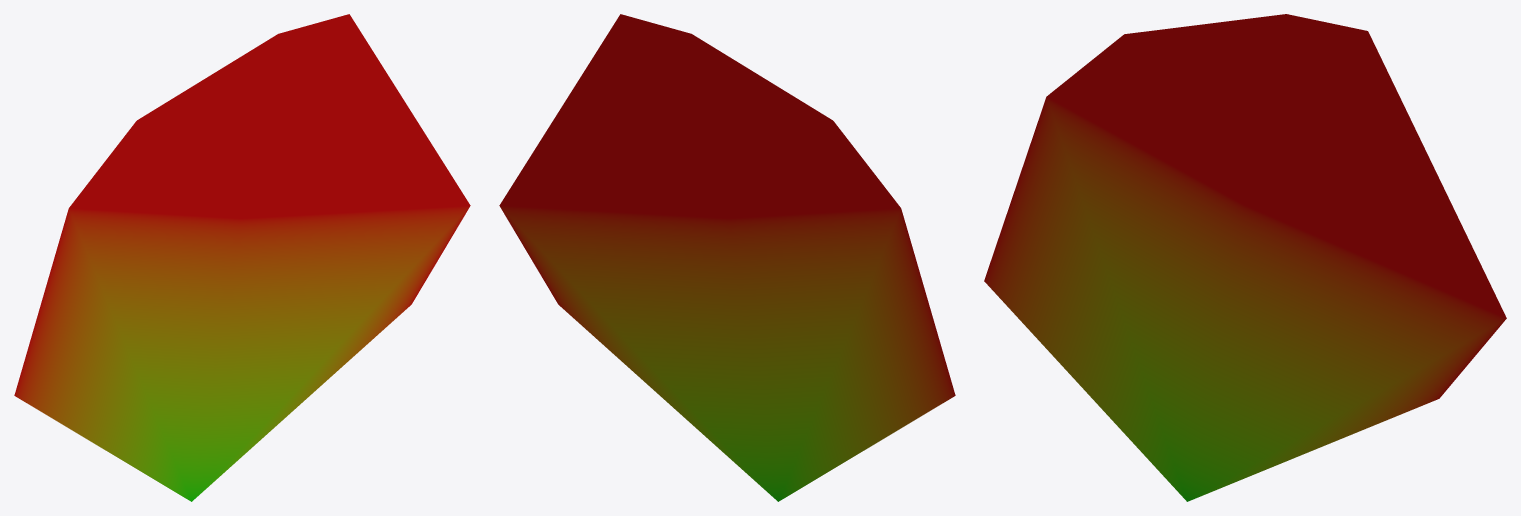
File: Rose Hip_LOD5_Var5.fbx
3 renders of one model, left to right at view 1: azimuth 30°, elevation 25°; view 2: azimuth 150°, elevation 25°; view 3: azimuth 330°, elevation 25°, orthographic. The views are drawn at different scales.
Visible parts, largest first — view 1: _qr85_Var5_LOD5; view 2: _qr85_Var5_LOD5; view 3: _qr85_Var5_LOD5.
Part boxes in pixels (x1,y1,x2,y2): _qr85_Var5_LOD5: [14, 14, 470, 501]; _qr85_Var5_LOD5: [499, 14, 955, 501]; _qr85_Var5_LOD5: [984, 14, 1506, 501].
Size of the model in its own units: 98.01 by 92.26 by 1.16e-10.
